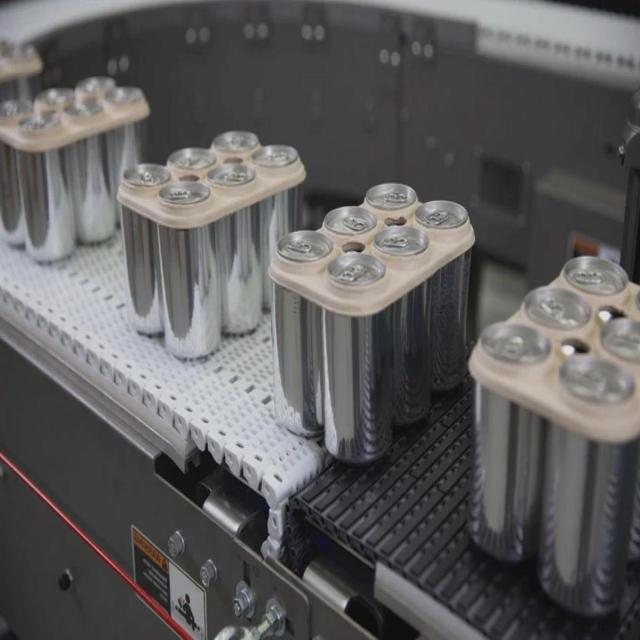bottle: (466, 253, 638, 619), (266, 180, 476, 467), (115, 128, 307, 361)
